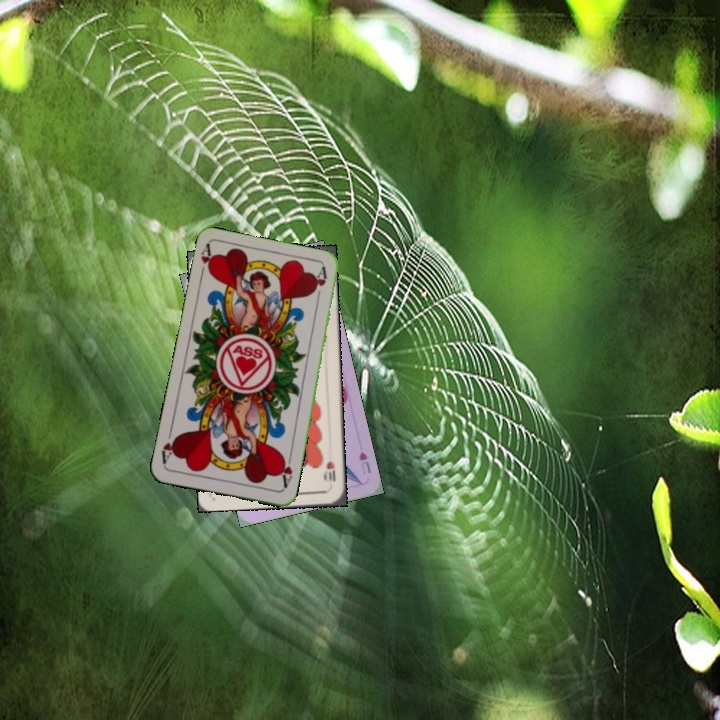H10: (322, 457, 338, 484)
HA: (196, 241, 217, 282), (275, 450, 295, 491)
HU: (355, 448, 374, 477)
